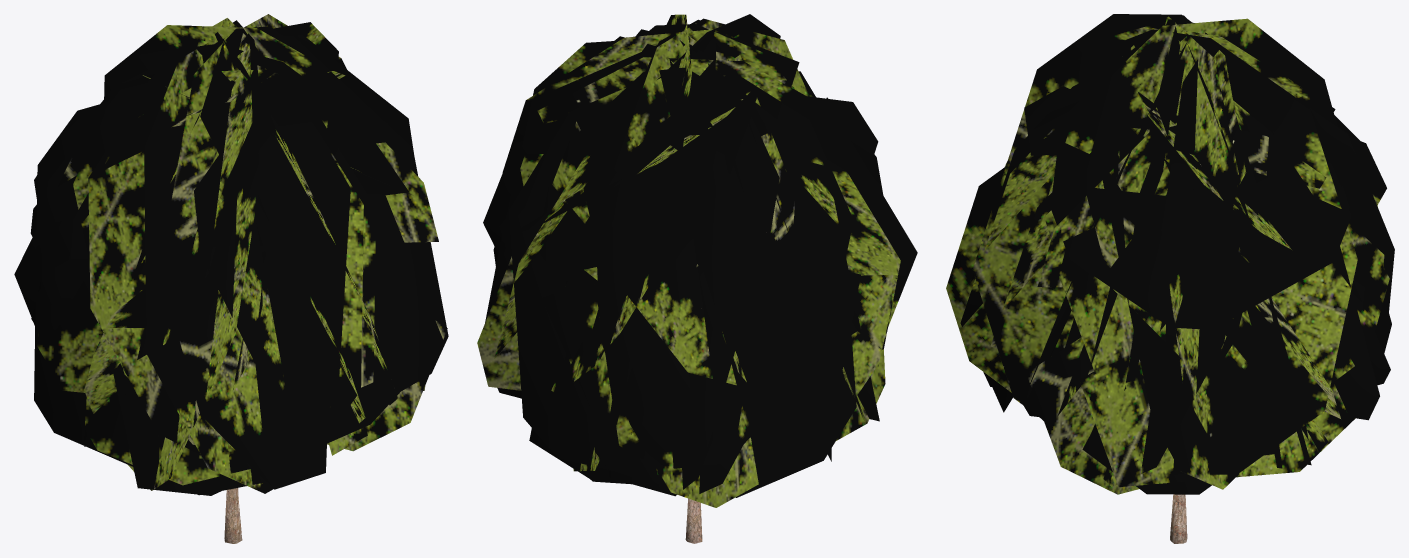
The model's file is tree1.fbx.
3 views of the same model, side by side, from view 1: azimuth 30°, elevation 25°; view 2: azimuth 150°, elevation 25°; view 3: azimuth 270°, elevation 25° (orthographic).
Parts seen in each view (by area): view 1: Tree_LOD0; view 2: Tree_LOD0; view 3: Tree_LOD0.
Boxes of the visible parts, x1,y1,x2,y2 form: Tree_LOD0: (14, 14, 448, 543); Tree_LOD0: (477, 14, 917, 543); Tree_LOD0: (946, 14, 1394, 543).
Size of what is drawn, in the model's own units: 1006 by 1329 by 1035.
